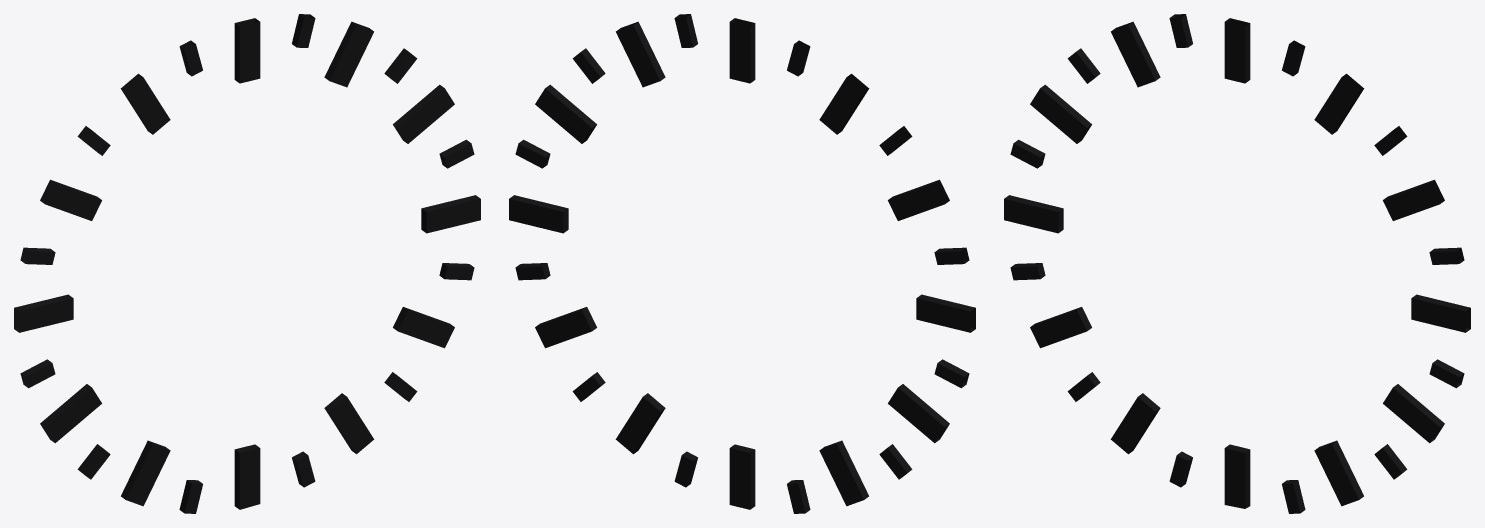
File: Itr_Obj_Grandfatherclock1_Marking_01.FBX
The picture shows the model from 3 angles, left to right: view 1: azimuth 30°, elevation 25°; view 2: azimuth 150°, elevation 25°; view 3: azimuth 330°, elevation 25°; orthographic projection.
Visible parts, largest first — view 1: Itr_Obj_Grandfatherclock1_Marking_01; view 2: Itr_Obj_Grandfatherclock1_Marking_01; view 3: Itr_Obj_Grandfatherclock1_Marking_01.
Boxes of the visible parts, x1,y1,x2,y2 form: Itr_Obj_Grandfatherclock1_Marking_01: (14, 14, 480, 513); Itr_Obj_Grandfatherclock1_Marking_01: (509, 14, 975, 513); Itr_Obj_Grandfatherclock1_Marking_01: (1004, 14, 1470, 513).
Size of the model in its own units: 8.09 by 8.09 by 0.1556.
